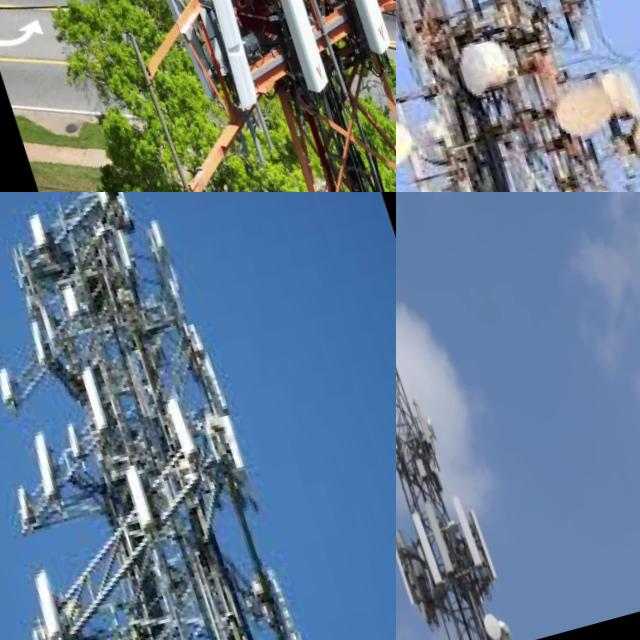GSM Antenna: (239, 0, 331, 97), (195, 0, 263, 116), (150, 0, 217, 106), (300, 0, 396, 57), (440, 493, 489, 601), (461, 507, 504, 606), (402, 514, 443, 606), (19, 426, 67, 504), (19, 562, 66, 636), (422, 520, 460, 606), (110, 455, 152, 531), (68, 362, 108, 440), (396, 531, 423, 636), (158, 390, 193, 460), (53, 414, 88, 471), (3, 468, 36, 524), (408, 407, 433, 461), (19, 314, 46, 360), (23, 210, 48, 250), (58, 284, 81, 322), (0, 361, 17, 406)
Microwave Antenna: (537, 76, 616, 150), (443, 36, 518, 108), (584, 59, 640, 125), (396, 107, 421, 189), (617, 105, 640, 177), (418, 414, 437, 445)
